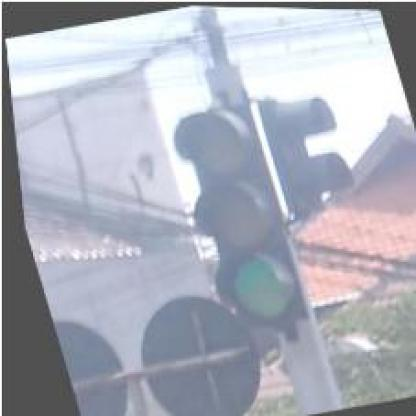green: (157, 97, 308, 335)
